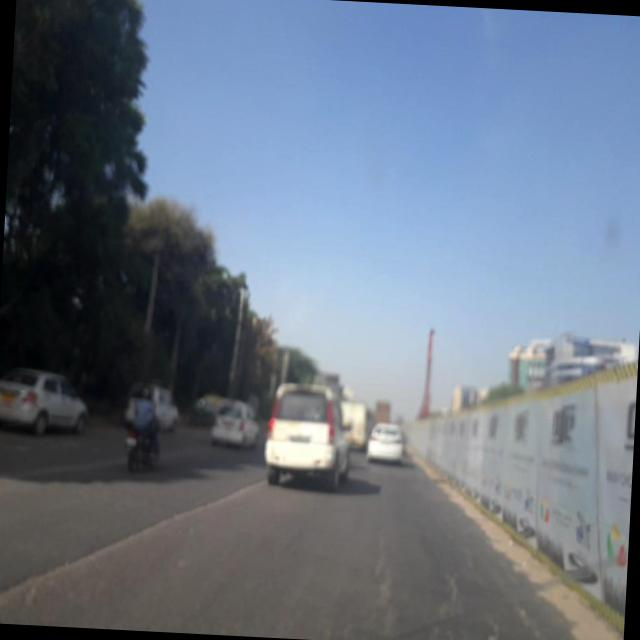crack: (0, 469, 249, 606), (418, 541, 549, 640), (359, 518, 404, 640)
